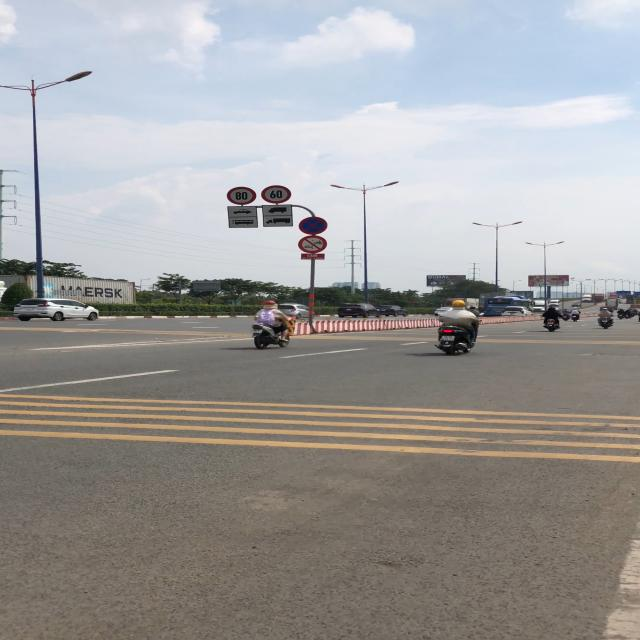Bien bao cam dung xe va do xe: (298, 214, 328, 236)
Bien bao toc do toi da cho phep: (224, 186, 258, 206), (260, 184, 291, 204)
